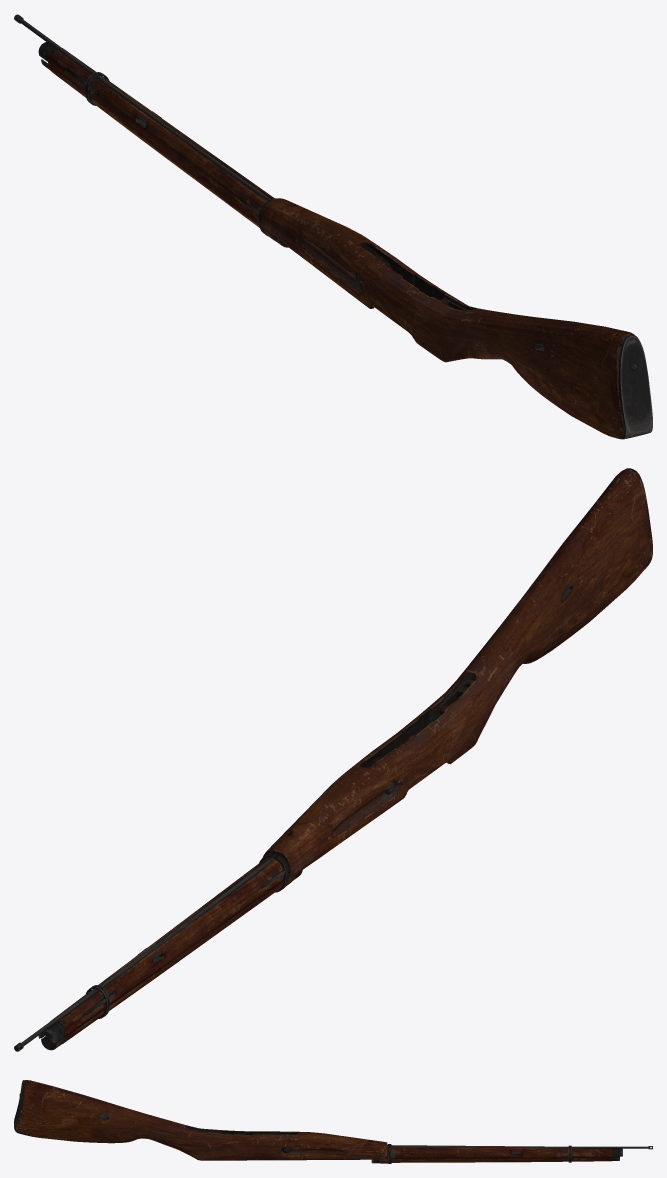
3 renders of one model, top to bottom at view 1: azimuth 30°, elevation 25°; view 2: azimuth 150°, elevation 25°; view 3: azimuth 270°, elevation 25°, orthographic. The views are drawn at different scales.
Parts seen in each view (by area): view 1: TW_5bfd35380db83400232fe5cc_PZ_Import; view 2: TW_5bfd35380db83400232fe5cc_PZ_Import; view 3: TW_5bfd35380db83400232fe5cc_PZ_Import.
Part boxes in pixels (box(x1,y1,x2,y2)): TW_5bfd35380db83400232fe5cc_PZ_Import: box(14, 14, 652, 439); TW_5bfd35380db83400232fe5cc_PZ_Import: box(14, 468, 652, 1051); TW_5bfd35380db83400232fe5cc_PZ_Import: box(14, 1080, 652, 1163).
Size of the model in its own units: 0.0254 by 0.7043 by 0.1006.
1 material, 1 textured.
